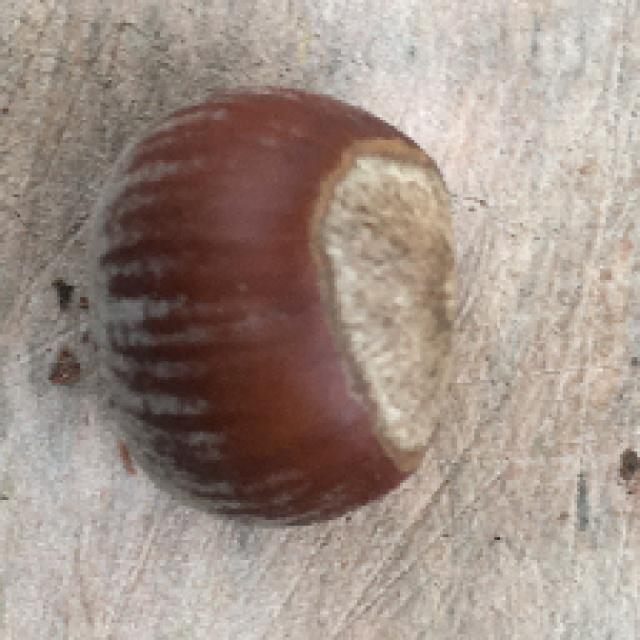qualityHazelnut: (86, 80, 461, 534)
